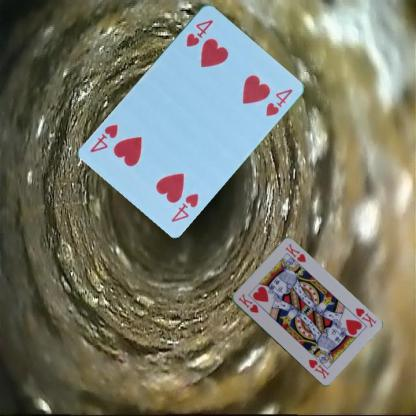4h: (168, 190, 200, 223), (184, 17, 214, 48)
Kh: (352, 305, 378, 329), (235, 292, 260, 314)
